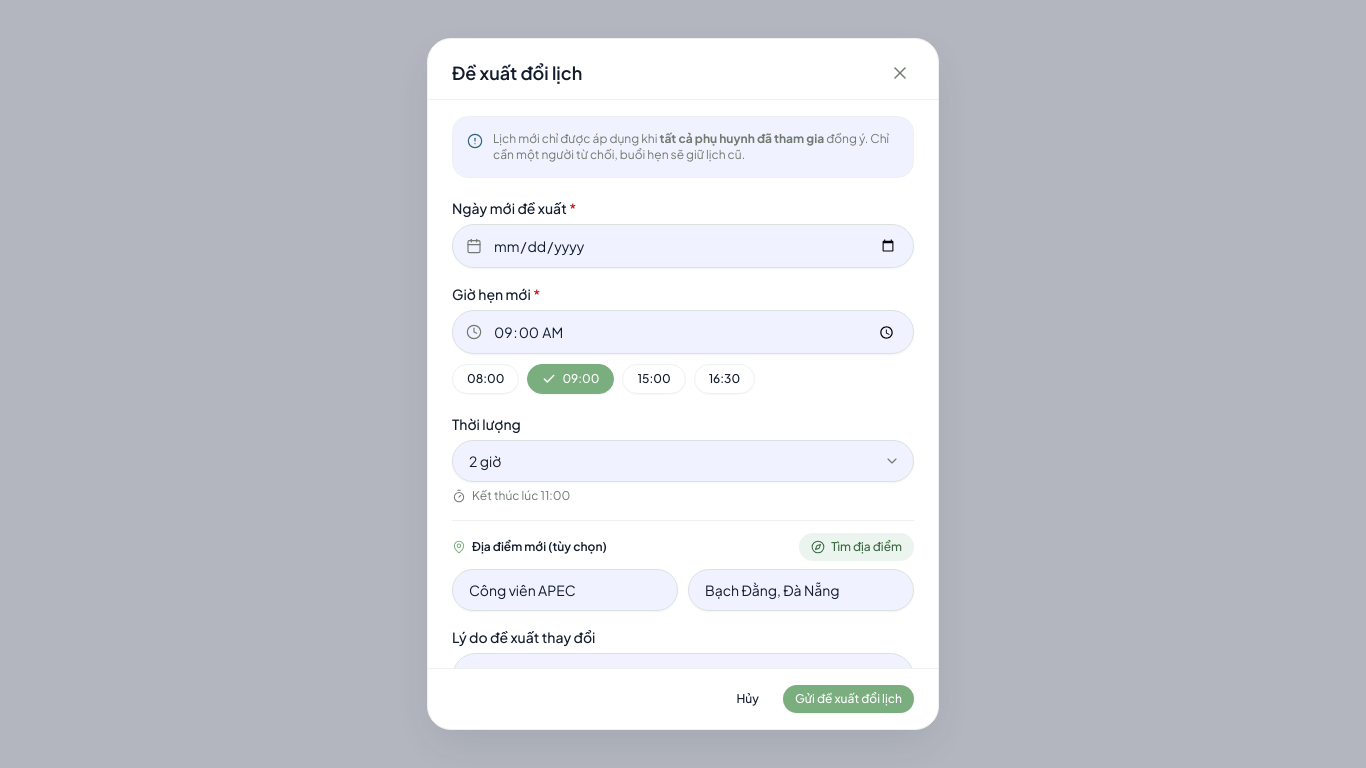
Test case: RescheduleModal duration › starts from the current duration and shows the new end time
The width and height of the screenshot is (1366, 768).
Expected: the text "Kết thúc lúc 11:00" is shown, [452,488,570,503]
Select "3 giờ" in the dropdown labelled "Thời lượng" at point(683, 461), box [452,440,914,482]
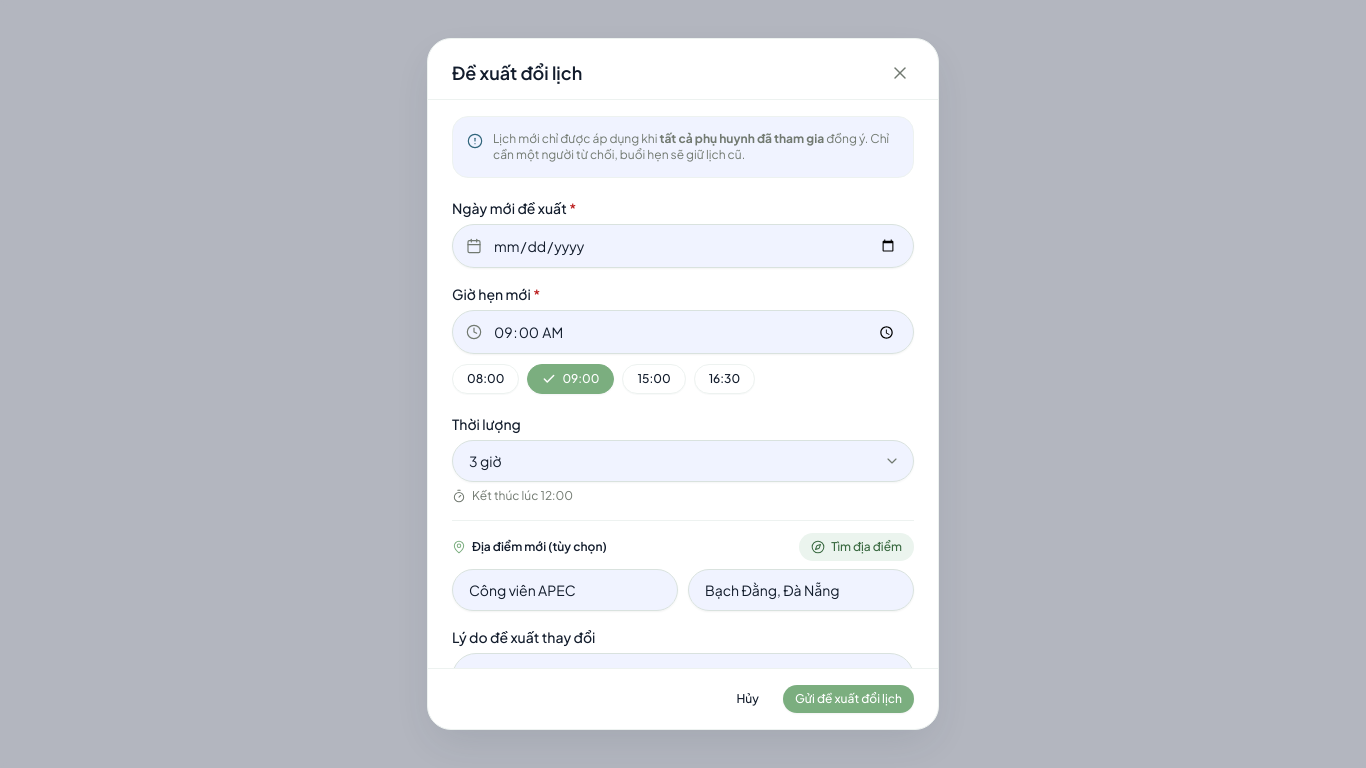
Expected: the text "Kết thúc lúc 12:00" is shown, [452,488,573,503]
